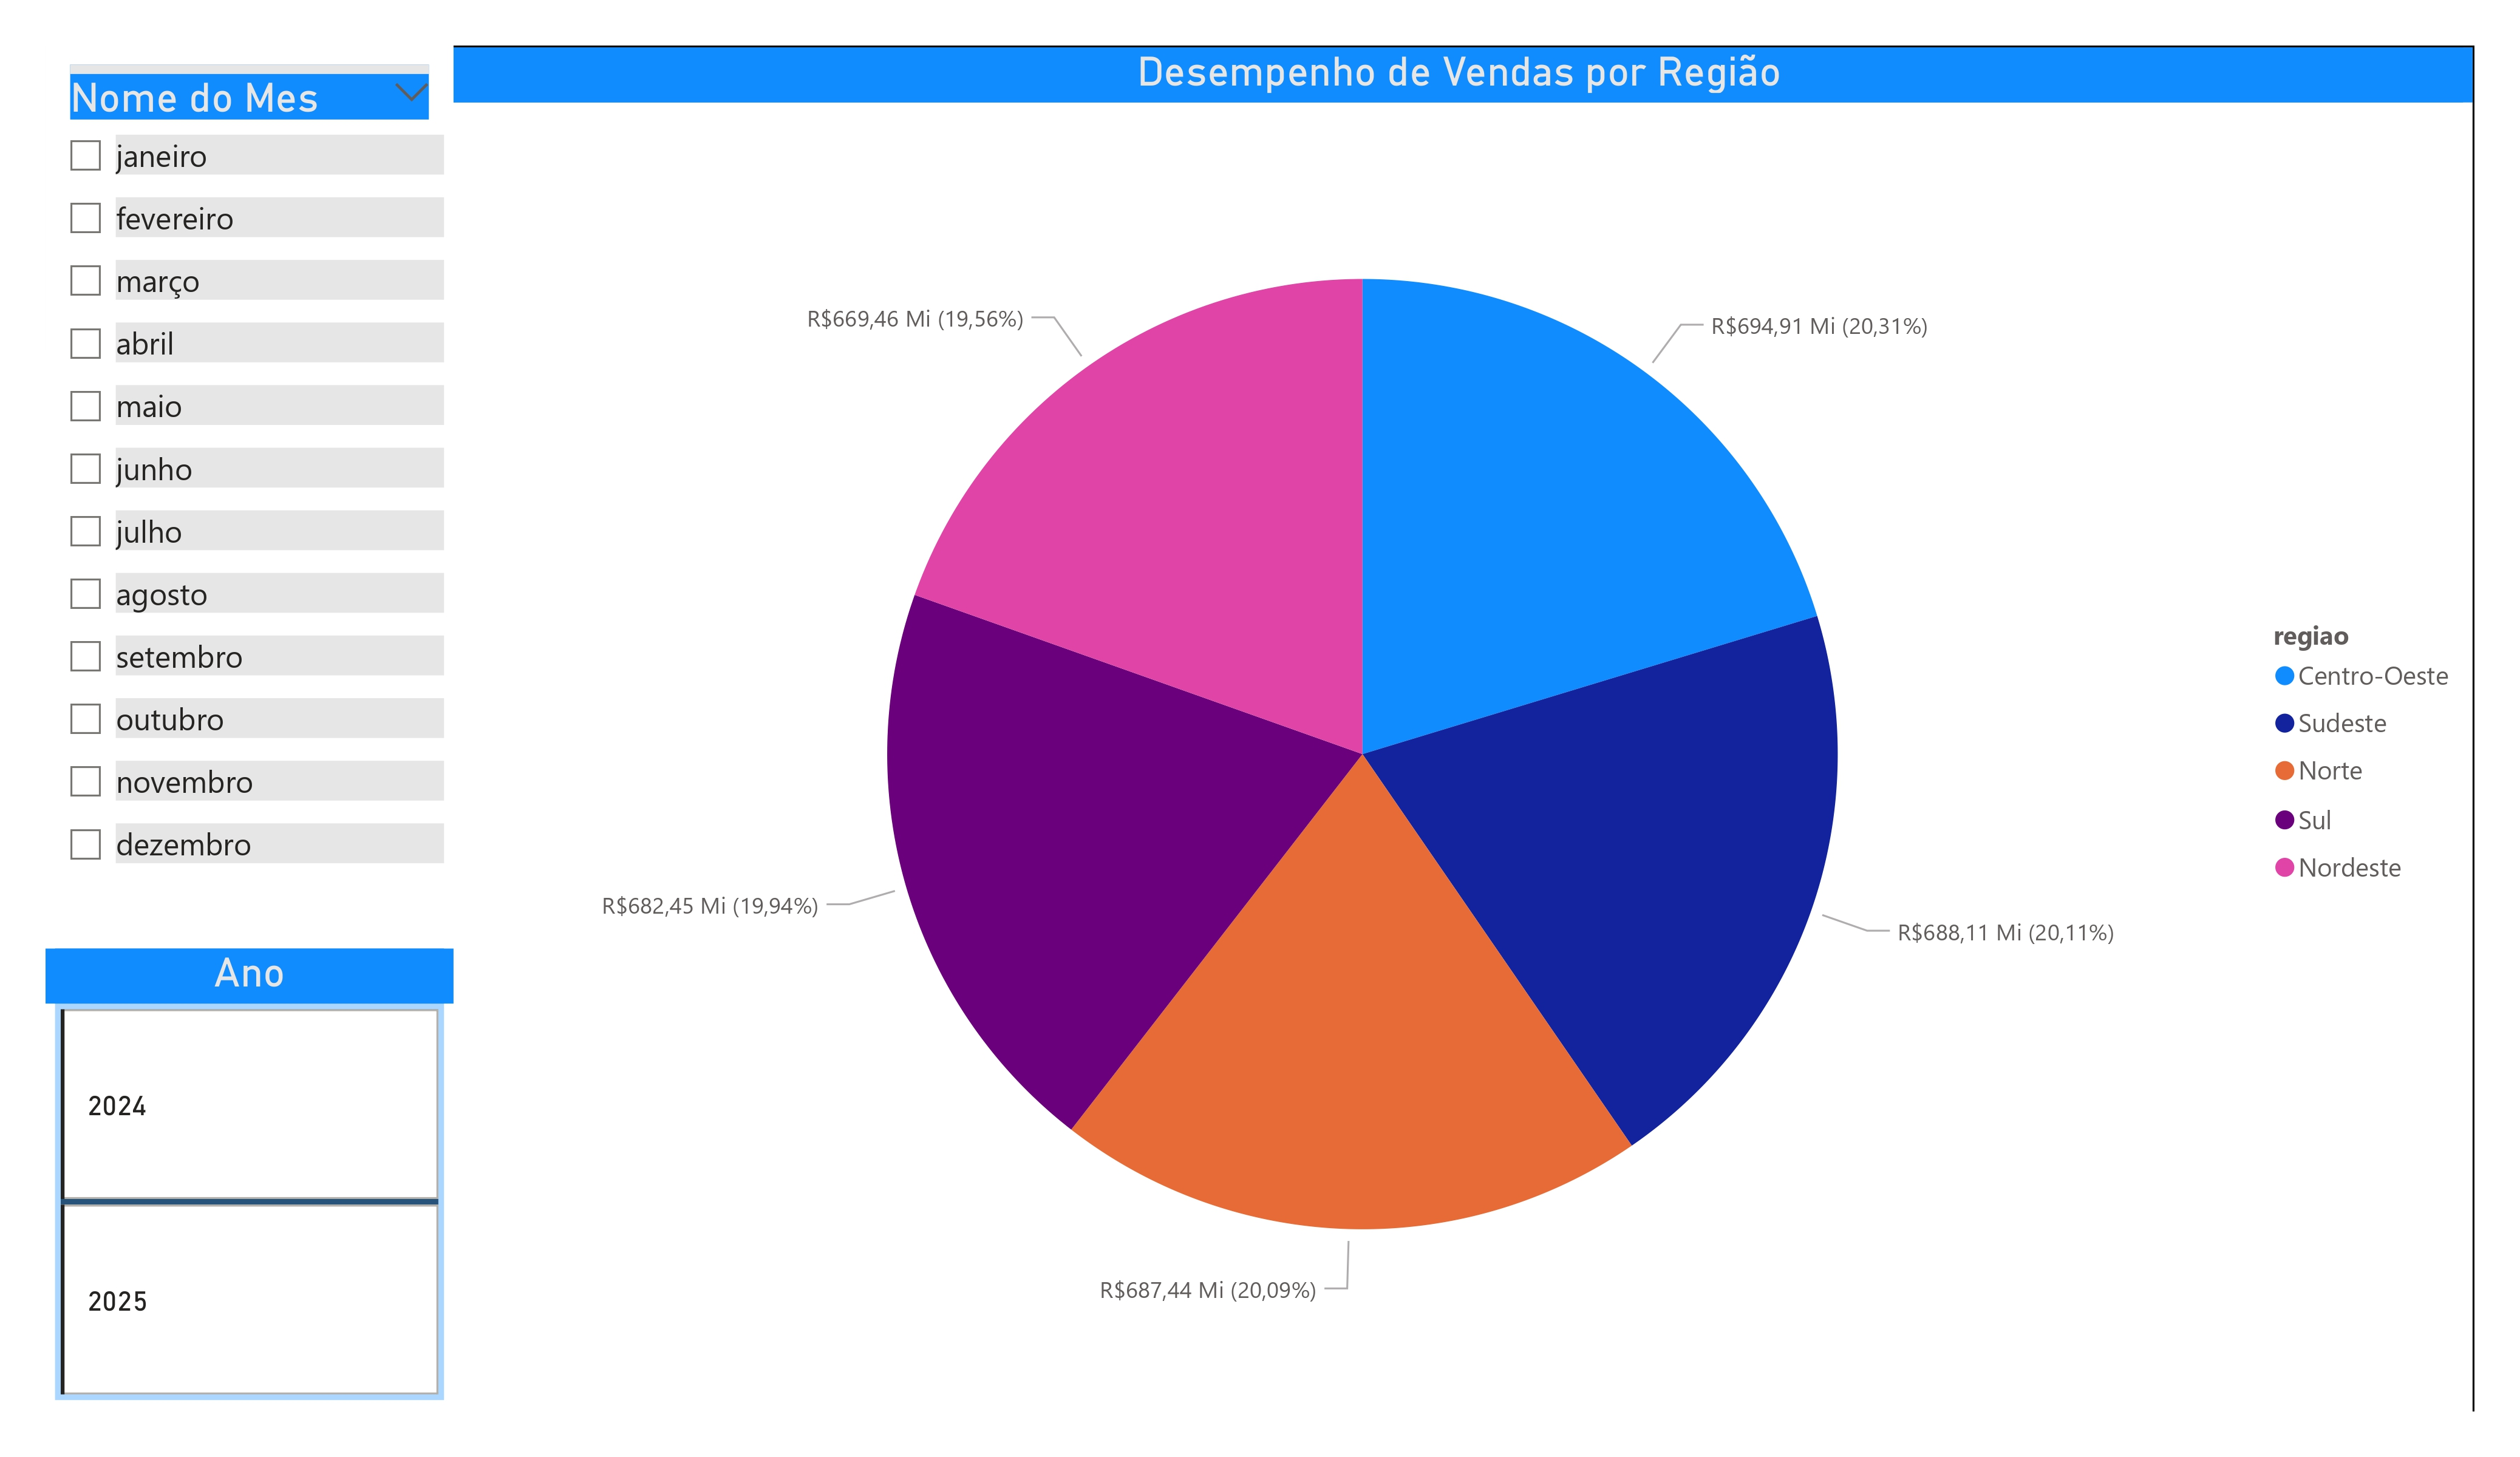

Layout of this report page (visuals, bound fields, positions):
{"tool":"powerbi","page":{"name":"Desempenho por Região","canvas":[1280,720],"ordinal":2},"visuals":[{"type":"pieChart","title":"Desempenho de Vendas por Região","fields":{"Category":["sales_clean.regiao"],"Y":["sales_clean.Total de Vendas"]},"box":[208.3,0,1071.7,720.6],"z":0},{"type":"slicer","fields":{"Values":["Tabela Calendário.Nome do Mes"]},"box":[0,0,215,477.1],"z":3},{"type":"advancedSlicerVisual","fields":{"Values":["Tabela Calendário.Ano"]},"box":[0,476.4,215,243.6],"z":4}]}

Visuals, with their boxes in screenshot pixels (x1, y1, x2, y2):
"Desempenho de Vendas por Região" pieChart: [441,46,2474,1411]
slicer - Tabela Calendário.Nome do Mes: [46,46,454,951]
advancedSlicerVisual - Tabela Calendário.Ano: [46,949,454,1411]
